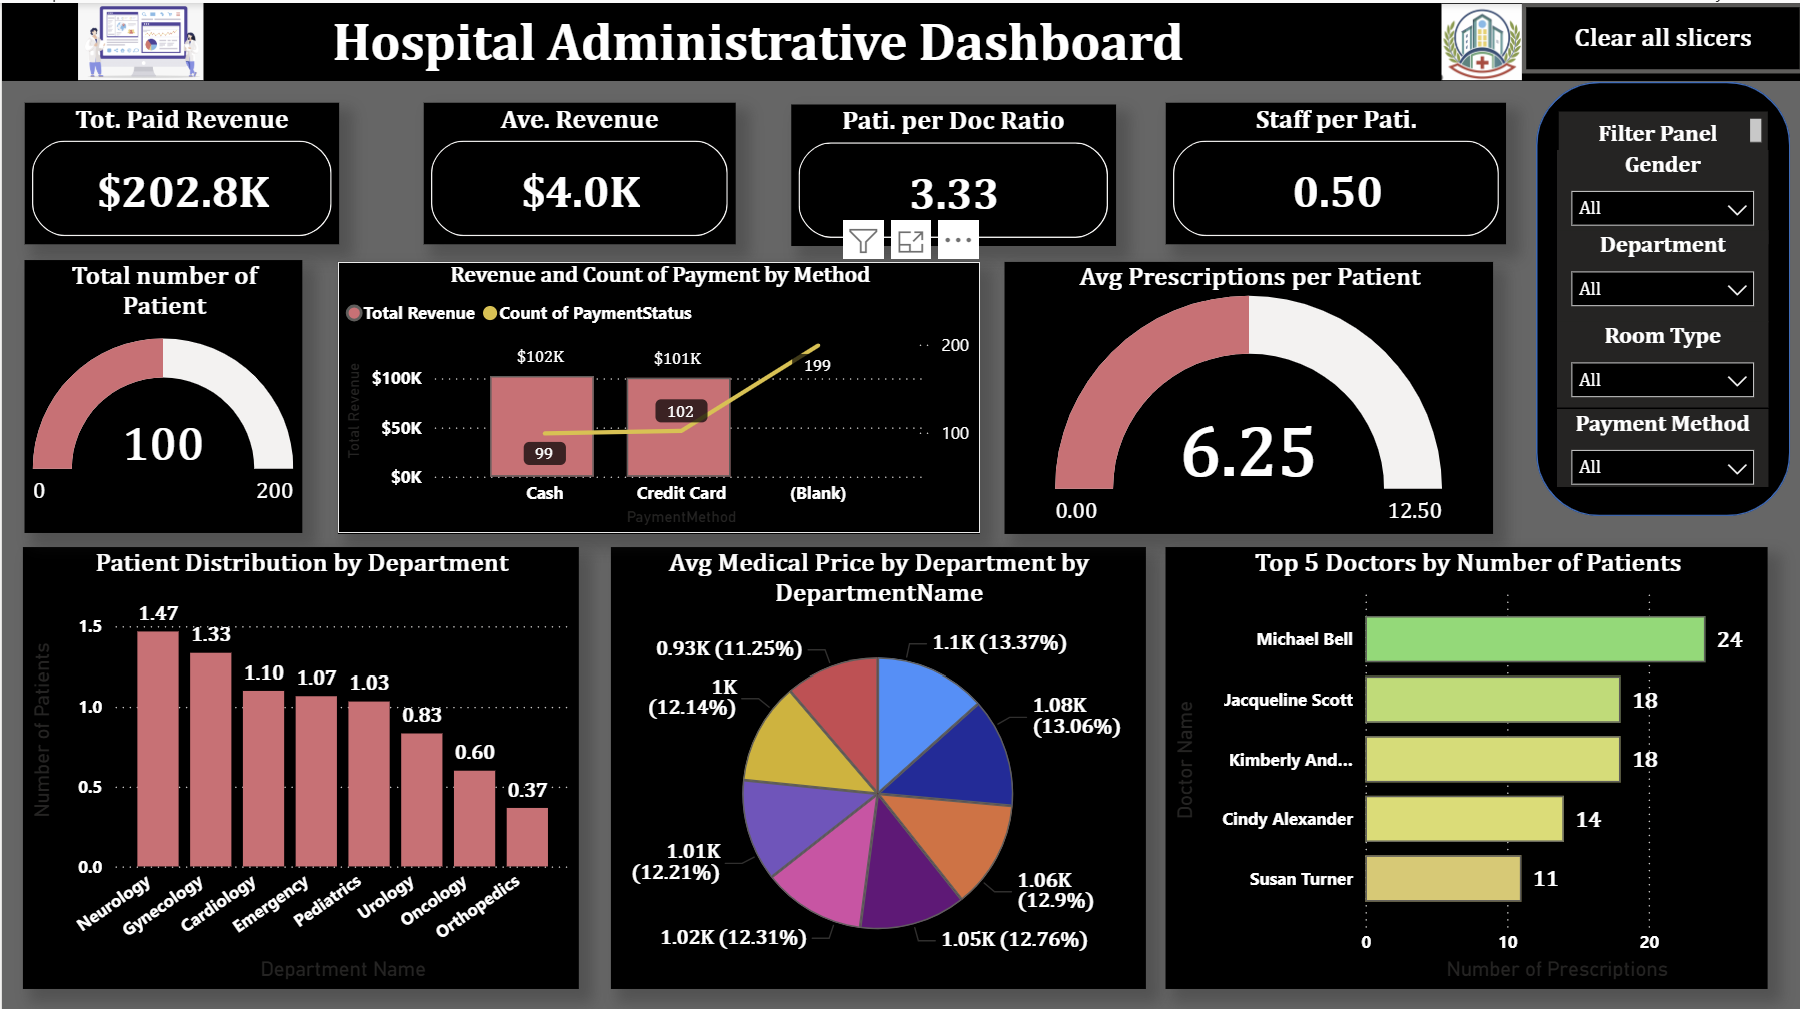

The page's visual inventory and layout, read from the dashboard file:
{"tool":"powerbi","page":{"name":"Hospital Dashboard","canvas":[1280,720],"ordinal":0},"visuals":[{"type":"pieChart","fields":{"Category":["Department.DepartmentName"],"Y":["Medicine.Avg Medical Price by Department"]},"box":[432.6,386.7,379.8,313],"z":0},{"type":"cardVisual","title":"Pati. per Doc Ratio","fields":{"Data":["Patient.Patient-Doc Ratio"]},"box":[561.5,72.2,230.6,100.3],"z":1000},{"type":"gauge","fields":{"Y":["Prescription.Avg Prescriptions per Patient"]},"box":[712.2,183.6,346.4,193.4],"z":2000},{"type":"cardVisual","title":"Tot. Paid Revenue","fields":{"Data":["Billing.Total Revenue"]},"box":[15.8,70.4,223.6,100.3],"z":3000},{"type":"cardVisual","title":"Staff per Pati.","fields":{"Data":["Staff.Staff per Patient"]},"box":[827.4,70.4,241.2,100.3],"z":4000},{"type":"cardVisual","title":"Ave. Revenue","fields":{"Data":["Billing.Avg Revenue per Patient"]},"box":[299.3,70.4,221.8,100.3],"z":5000},{"type":"lineStackedColumnComboChart","title":"Revenue and Count of Payment by Method","fields":{"Category":["Billing.PaymentMethod"],"Y2":["CountNonNull(Billing.PaymentStatus)"],"Y":["Billing.Total Revenue"]},"box":[239.3,183.6,456.3,193.4],"z":6000},{"type":"textbox","box":[0,0,1279.8,55.6],"z":7000},{"type":"barChart","title":"Top 5 Doctors by Number of Patients","fields":{"Category":["Doctor.DoctorName"],"Y":["Patient.Total Patient"]},"box":[827.7,386.7,427.1,313],"z":8000},{"type":"columnChart","title":"Patient Distribution by Department","fields":{"Category":["Department.DepartmentName"],"Y":["Patient.Patient-Doc Ratio"]},"box":[15.3,386.7,395.1,313],"z":9000},{"type":"shape","box":[1089.2,55.6,180.8,308.8],"z":10000},{"type":"textbox","box":[1105.9,76.5,148.8,27.8],"z":11000},{"type":"slicer","title":"Gender","fields":{"Values":["Patient.Gender"]},"box":[1104.5,104.3,150.2,66.8],"z":12000},{"type":"slicer","title":"Department","fields":{"Values":["Department.DepartmentName"]},"box":[1104.5,161.4,150.2,65.4],"z":13000},{"type":"slicer","title":"Room Type","fields":{"Values":["Room.RoomType"]},"box":[1104.5,226.7,150.2,61.2],"z":14000},{"type":"slicer","title":"Payment Method","fields":{"Values":["Billing.PaymentMethod"]},"box":[1104.5,288,150.2,55.6],"z":15000},{"type":"actionButton","box":[1079.5,0,200.3,50.1],"z":16000},{"type":"image","box":[53.5,0,90.7,55],"z":17000},{"type":"image","box":[1022.5,0,57,55.6],"z":18000},{"type":"gauge","title":"Total number of Patient","fields":{"Y":["Patient.Total Patient"]},"box":[15.8,183.1,197.2,193.6],"z":19000}]}

Visuals, with their boxes in screenshot pixels (x1, y1, x2, y2), scaled from the page's 1280x720 canvas onto the 1800x1009 screenshot:
pieChart - Department.DepartmentName x Medicine.Avg Medical Price by Department: select_region(608, 542, 1142, 981)
"Pati. per Doc Ratio" cardVisual: select_region(790, 101, 1114, 242)
gauge - Prescription.Avg Prescriptions per Patient: select_region(1002, 257, 1489, 528)
"Tot. Paid Revenue" cardVisual: select_region(22, 99, 337, 239)
"Staff per Pati." cardVisual: select_region(1164, 99, 1503, 239)
"Ave. Revenue" cardVisual: select_region(421, 99, 733, 239)
"Revenue and Count of Payment by Method" lineStackedColumnComboChart: select_region(337, 257, 978, 528)
textbox: select_region(0, 0, 1799, 78)
"Top 5 Doctors by Number of Patients" barChart: select_region(1164, 542, 1765, 981)
"Patient Distribution by Department" columnChart: select_region(22, 542, 577, 981)
shape: select_region(1532, 78, 1786, 511)
textbox: select_region(1555, 107, 1764, 146)
"Gender" slicer: select_region(1553, 146, 1764, 240)
"Department" slicer: select_region(1553, 226, 1764, 318)
"Room Type" slicer: select_region(1553, 318, 1764, 403)
"Payment Method" slicer: select_region(1553, 404, 1764, 482)
actionButton: select_region(1518, 0, 1799, 70)
image: select_region(75, 0, 203, 77)
image: select_region(1438, 0, 1518, 78)
"Total number of Patient" gauge: select_region(22, 257, 300, 528)
